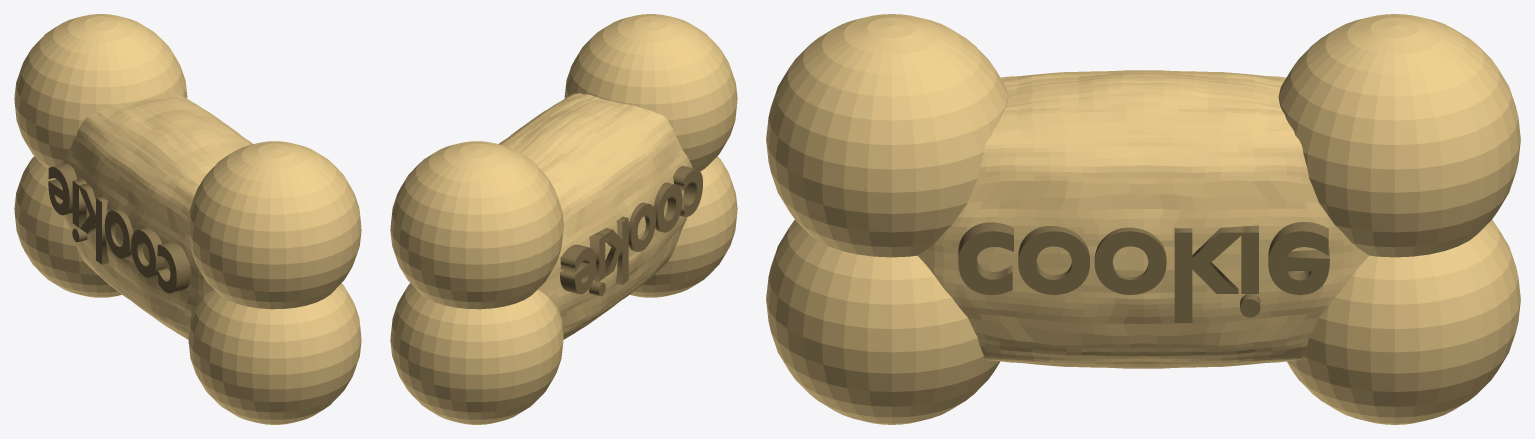
Rendered from cookie.fbx.
3 renders of one model, left to right at view 1: azimuth 30°, elevation 25°; view 2: azimuth 150°, elevation 25°; view 3: azimuth 270°, elevation 25°, orthographic. The views are drawn at different scales.
Parts seen in each view (by area): view 1: 立方体; view 2: 立方体; view 3: 立方体.
Boxes of the visible parts, <box> form: 立方体: <box>14,14,361,424</box>; 立方体: <box>390,14,737,424</box>; 立方体: <box>766,14,1520,424</box>.
Size of the model in its own units: 200 by 340 by 600.
